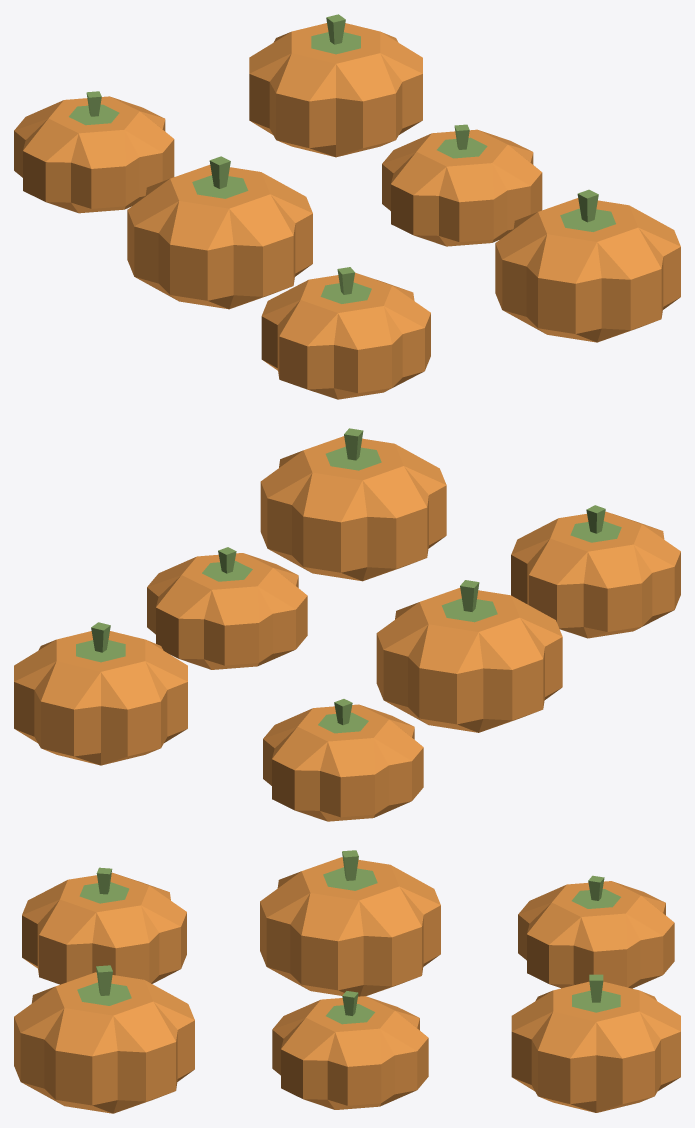
File: veg_farm_pumpkin.glb
The picture shows the model from 3 angles, top to bottom: view 1: azimuth 30°, elevation 25°; view 2: azimuth 150°, elevation 25°; view 3: azimuth 270°, elevation 25°; orthographic projection. The views are drawn at different scales.
Visible parts, largest first — view 1: crop_pumpkin_5, crop_pumpkin_1, crop_pumpkin_3, crop_pumpkin_2, crop_pumpkin_4, crop_pumpkin_0; view 2: crop_pumpkin_5, crop_pumpkin_1, crop_pumpkin_3, crop_pumpkin_2, crop_pumpkin_0, crop_pumpkin_4; view 3: crop_pumpkin_5, crop_pumpkin_1, crop_pumpkin_3, crop_pumpkin_2, crop_pumpkin_4, crop_pumpkin_0.
Boxes of the visible parts, bbox=[...] form: crop_pumpkin_5: bbox=[495, 189, 680, 342]; crop_pumpkin_1: bbox=[127, 156, 312, 309]; crop_pumpkin_3: bbox=[249, 14, 422, 157]; crop_pumpkin_2: bbox=[261, 267, 430, 399]; crop_pumpkin_4: bbox=[382, 124, 542, 246]; crop_pumpkin_0: bbox=[14, 91, 174, 213]; crop_pumpkin_5: bbox=[260, 428, 446, 581]; crop_pumpkin_1: bbox=[376, 580, 562, 732]; crop_pumpkin_3: bbox=[14, 622, 187, 765]; crop_pumpkin_2: bbox=[511, 505, 680, 638]; crop_pumpkin_0: bbox=[263, 699, 423, 821]; crop_pumpkin_4: bbox=[147, 547, 307, 669]; crop_pumpkin_5: bbox=[14, 965, 194, 1113]; crop_pumpkin_1: bbox=[260, 850, 440, 996]; crop_pumpkin_3: bbox=[511, 974, 680, 1112]; crop_pumpkin_2: bbox=[22, 867, 186, 984]; crop_pumpkin_4: bbox=[272, 991, 428, 1109]; crop_pumpkin_0: bbox=[518, 875, 674, 988].
Size of the model in its own units: 1.19 by 0.3593 by 1.76.
